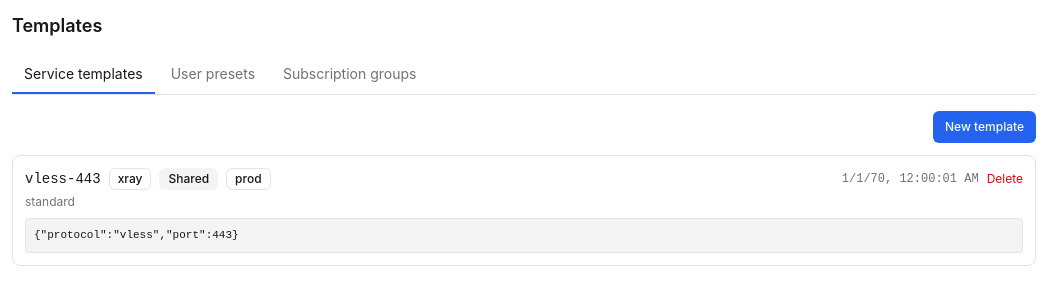
user presets › shows an absent quota as unlimited rather than zero
Expected: the text "vless-443" is shown, [25,169,101,189]
Click the tab "User presets" at (213, 75), box [159,56,267,94]
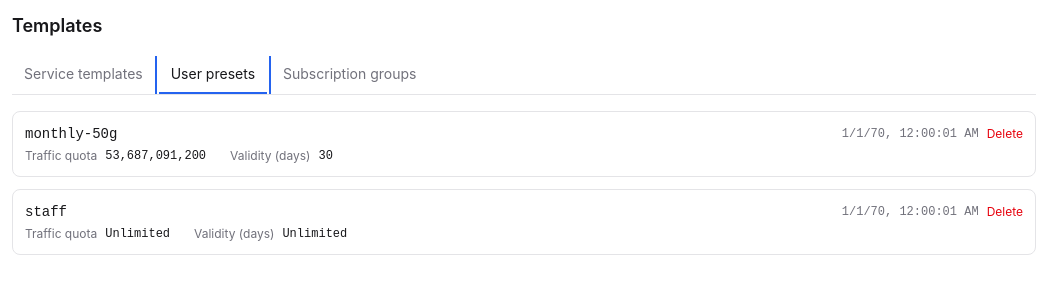
Result: the text "staff" is shown at [25,202,67,222]
Result: the text "monthly-50g" is shown at [25,124,117,144]
